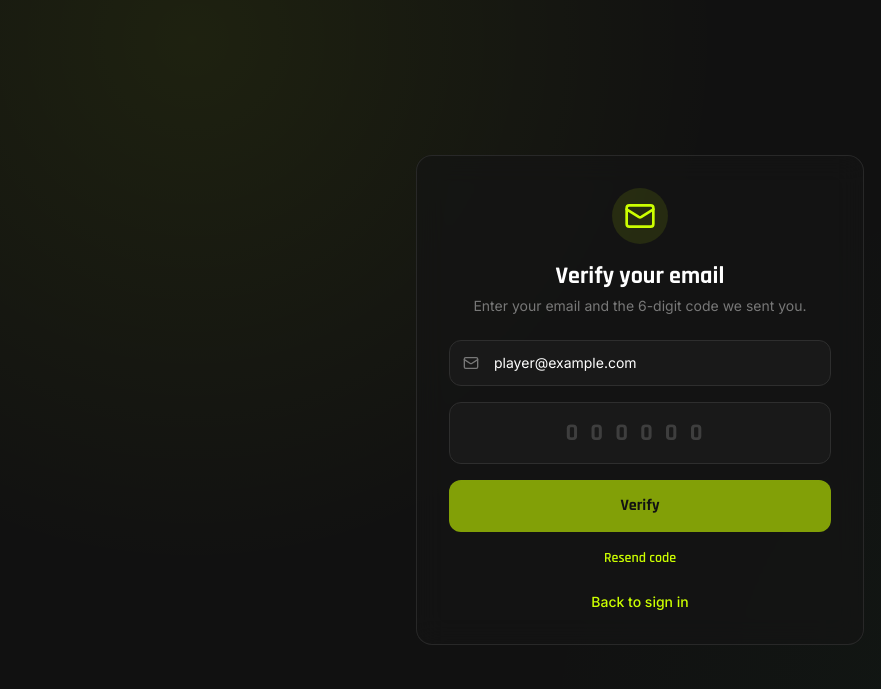
Test case: VerifyEmail resend › shows an error and does not claim success when the resend request fails
Click the button "Resend code" at (640, 558), box [449,548,831,568]
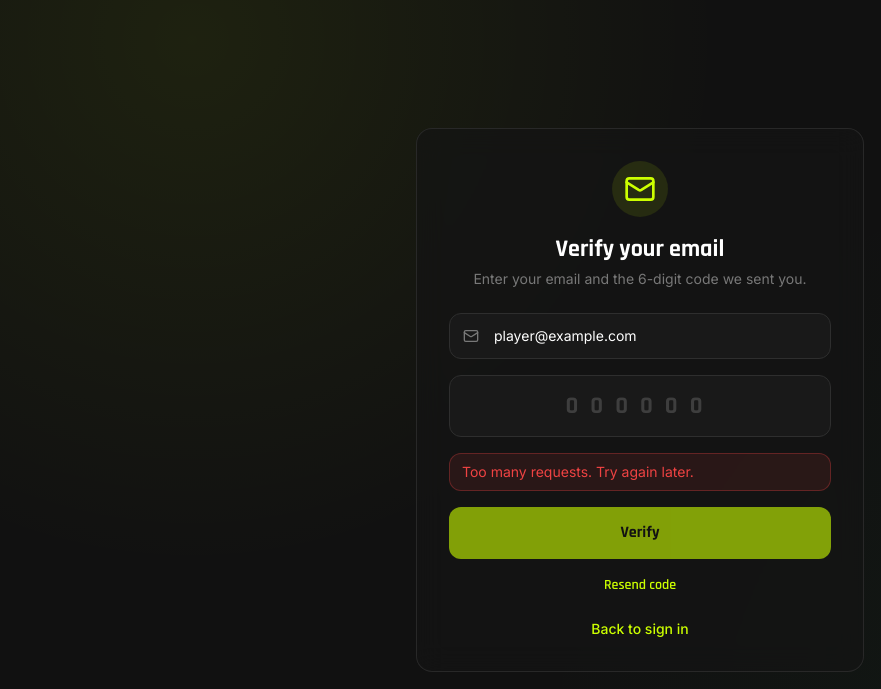
Now the text "Too many requests. Try again later." is shown, box [449,453,831,491]
